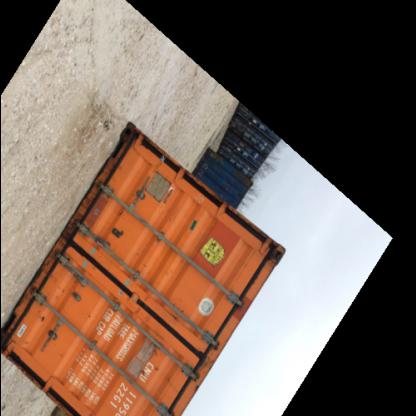Damage: (116, 299, 170, 347), (181, 178, 217, 208), (130, 362, 160, 380), (112, 222, 132, 242), (268, 246, 282, 266)
